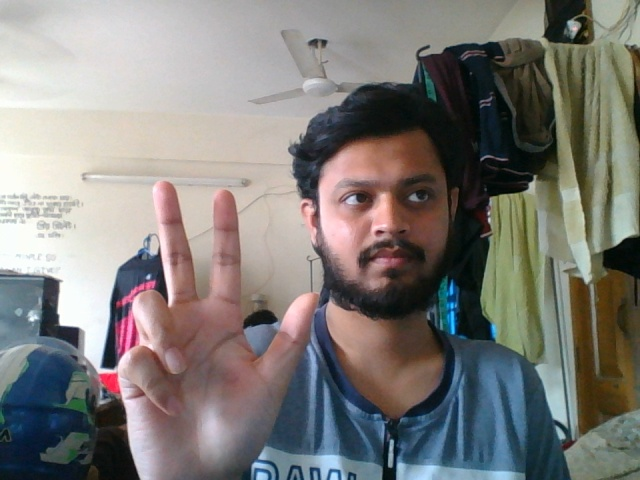da: (114, 171, 327, 480)
